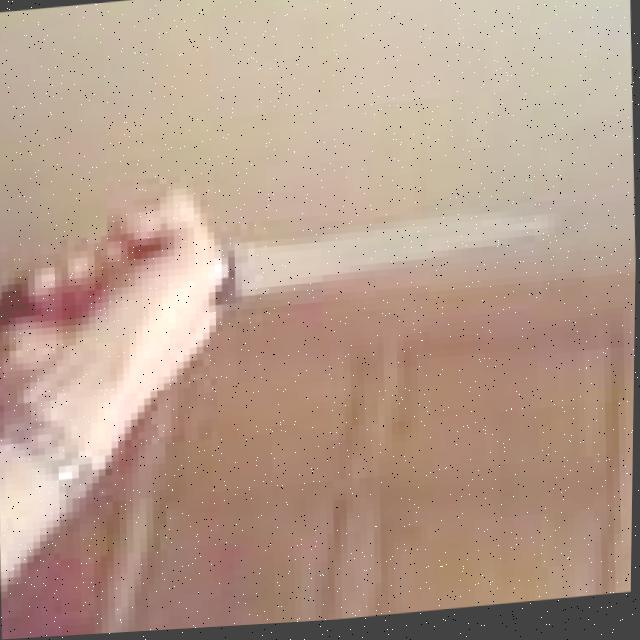knife: (210, 208, 561, 310)
